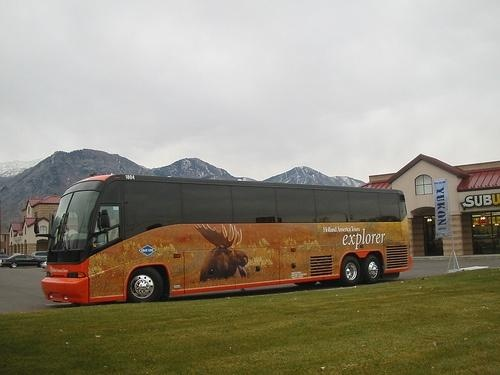bus: (45, 172, 415, 305)
car: (2, 254, 45, 269)
